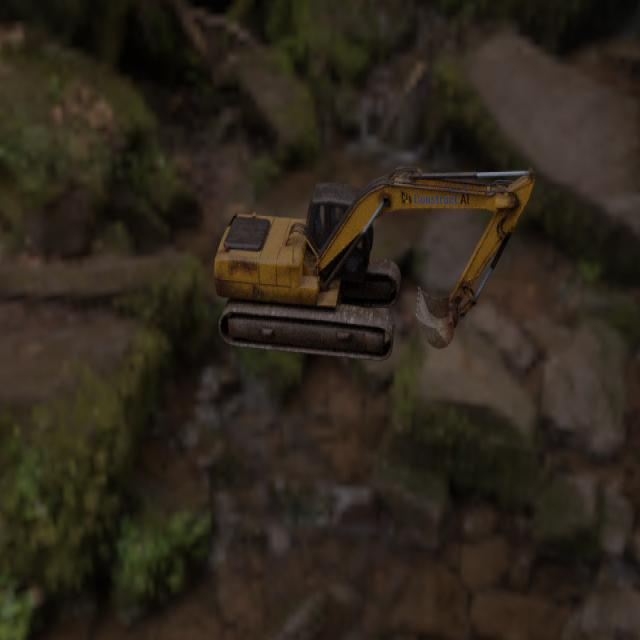excavator: (213, 164, 535, 361)
